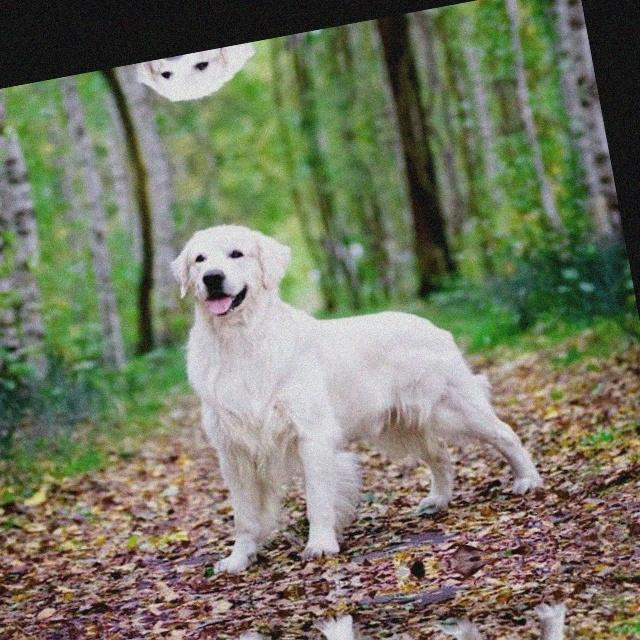dog: (126, 174, 544, 584), (94, 5, 460, 117), (198, 572, 570, 640)
